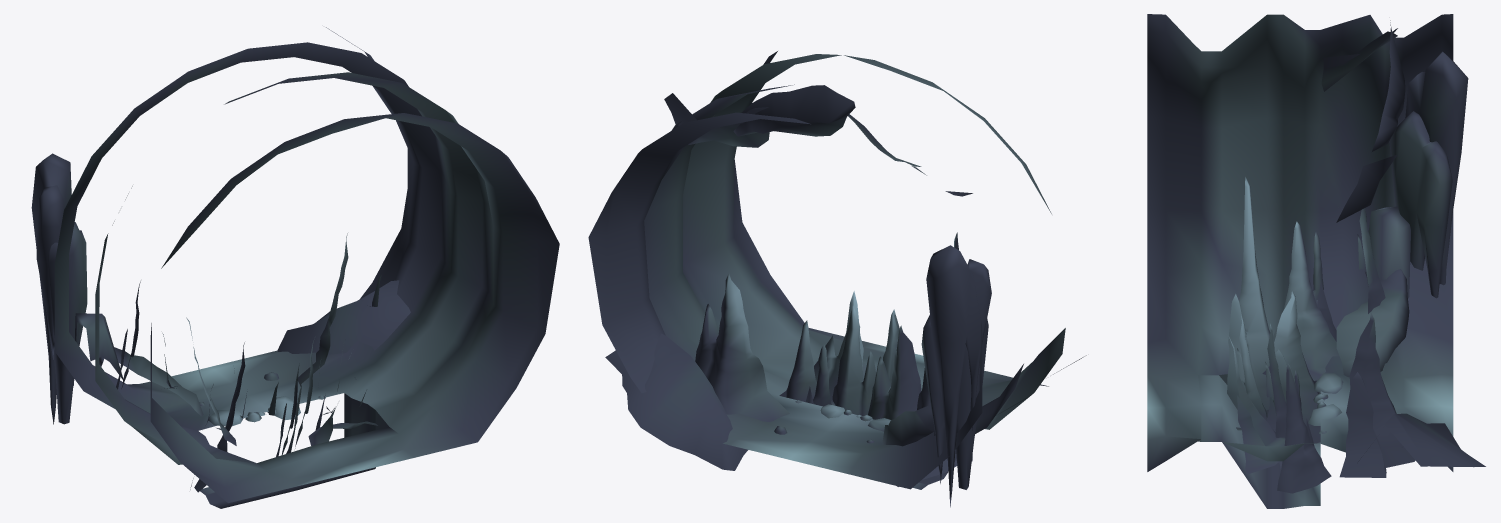
The model's file is Arctic_Tunnels_Obstacle_Jump_B.glb.
3 views of the same model, side by side, from view 1: azimuth 30°, elevation 25°; view 2: azimuth 150°, elevation 25°; view 3: azimuth 270°, elevation 25° (orthographic). The views are drawn at different scales.
Parts seen in each view (by area): view 1: Arctic_Tunnels_Obstacle_Jump_B; view 2: Arctic_Tunnels_Obstacle_Jump_B; view 3: Arctic_Tunnels_Obstacle_Jump_B.
Part boxes in pixels (bbox=[...]): Arctic_Tunnels_Obstacle_Jump_B: bbox=[31, 27, 559, 508]; Arctic_Tunnels_Obstacle_Jump_B: bbox=[588, 51, 1086, 507]; Arctic_Tunnels_Obstacle_Jump_B: bbox=[1147, 14, 1485, 508].
Size of what is drawn, in the model's own units: 8.99 by 9.08 by 6.21.
